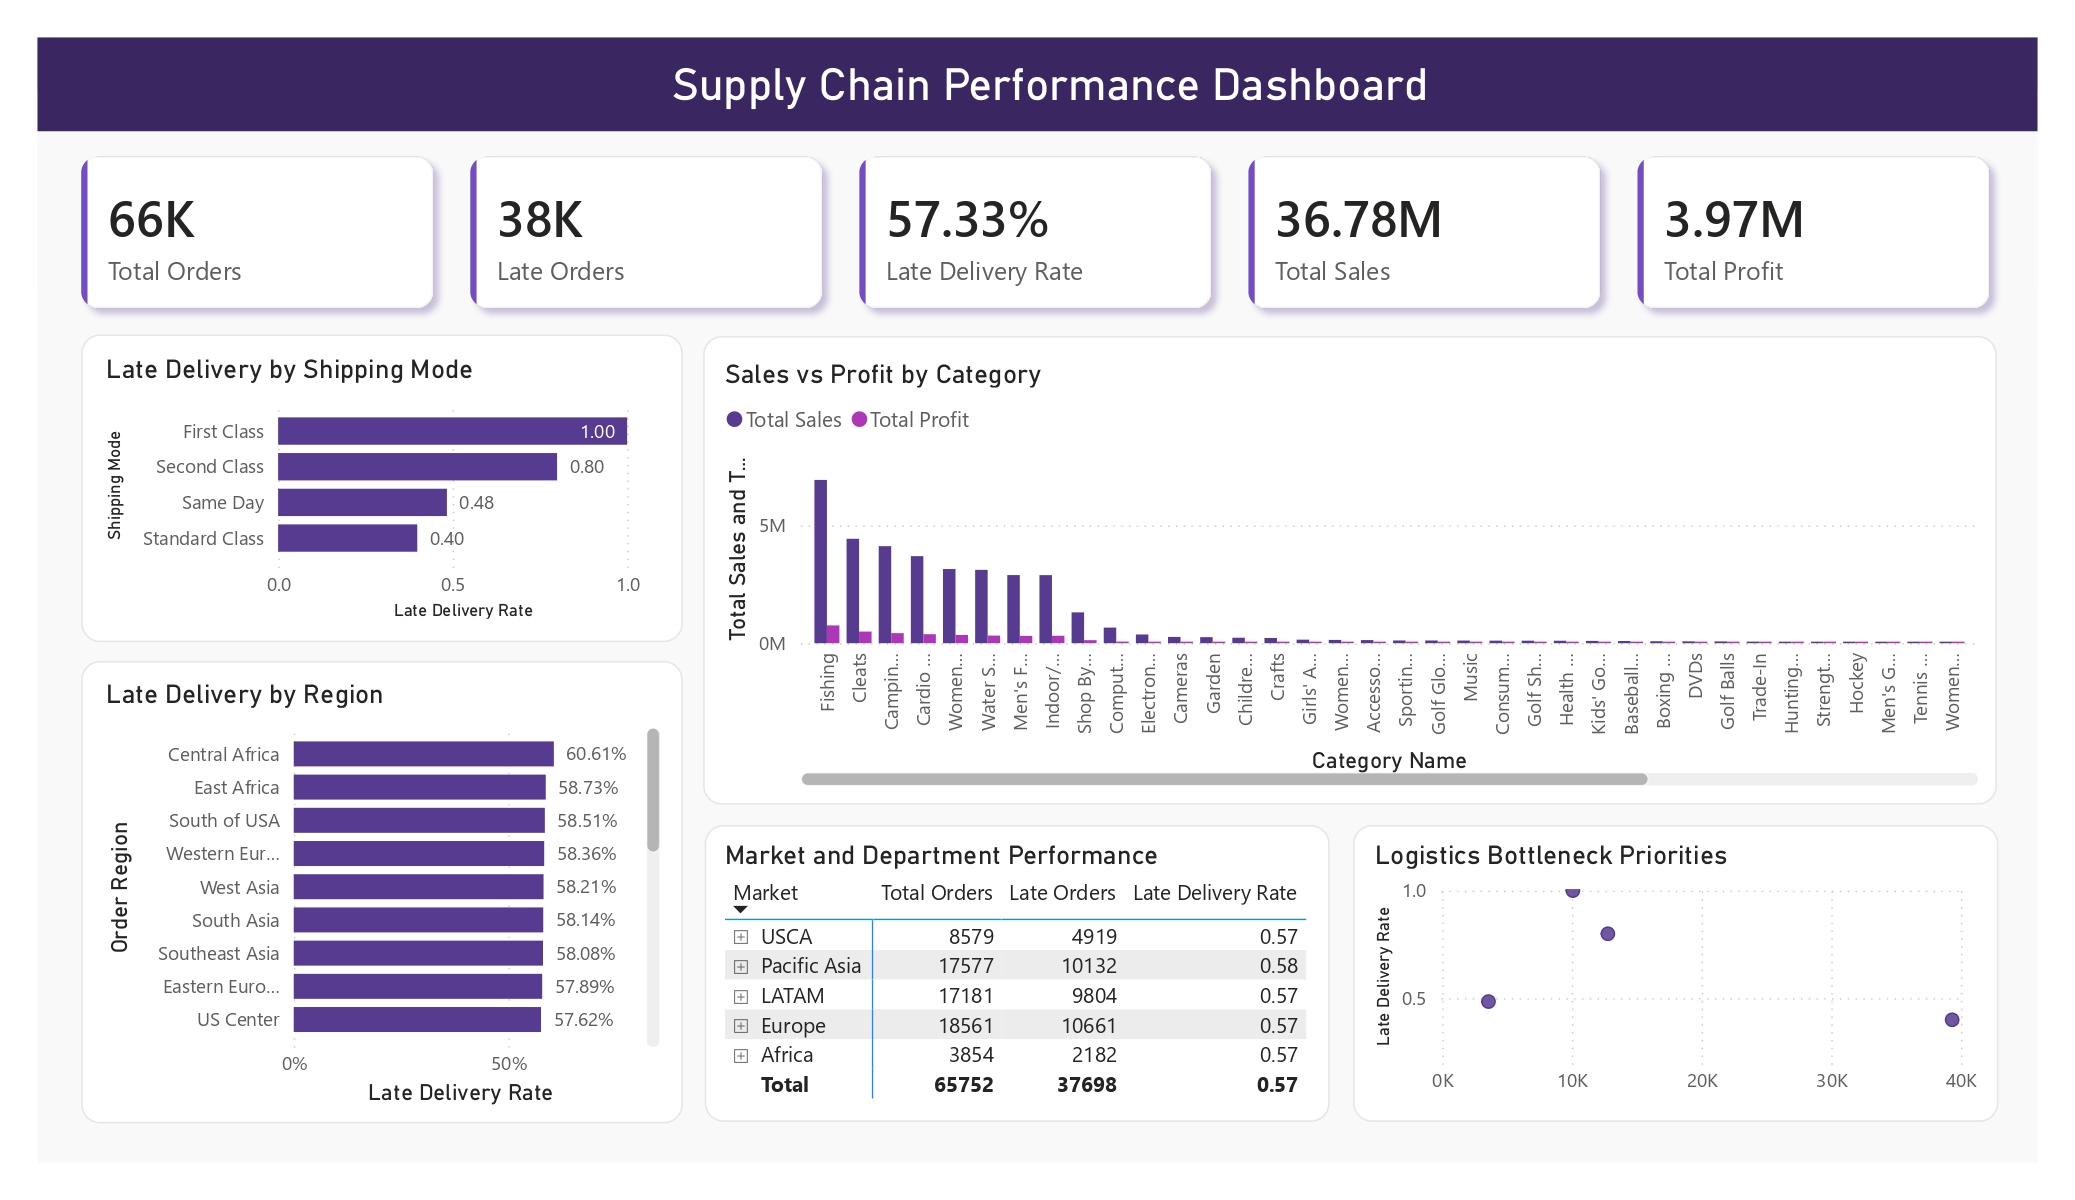

This screenshot's page, from the dashboard's own definition file:
{"tool":"powerbi","page":{"name":"Page 1","canvas":[1280,720],"ordinal":0},"visuals":[{"type":"shape","box":[842,504,413,190],"z":0},{"type":"shape","box":[427,504,400,190],"z":1000},{"type":"shape","box":[28,399,385,296],"z":2000},{"type":"shape","box":[426,191,828,300],"z":3000},{"type":"shape","box":[28,190,385,197],"z":4000},{"type":"cardVisual","fields":{"Data":["DataCoSupplyChainDataset_clean.Total Orders","DataCoSupplyChainDataset_clean.Late Orders","DataCoSupplyChainDataset_clean.Late Delivery Rate","DataCoSupplyChainDataset_clean.Total Sales","DataCoSupplyChainDataset_clean.Total Profit"]},"box":[0,59,1280,131],"z":5000},{"type":"shape","box":[0,0,1440,60],"z":6000},{"type":"textbox","box":[17,3,1247,53],"z":7000},{"type":"clusteredBarChart","title":"Late Delivery by Shipping Mode","fields":{"Category":["DataCoSupplyChainDataset_clean.Shipping Mode"],"Y":["DataCoSupplyChainDataset_clean.Late Delivery Rate"]},"box":[39,202,365,175],"z":8000},{"type":"clusteredBarChart","title":"Late Delivery by Region","fields":{"Category":["DataCoSupplyChainDataset_clean.Order Region"],"Y":["DataCoSupplyChainDataset_clean.Late Delivery Rate"]},"box":[39,410,364,278],"z":9000},{"type":"clusteredColumnChart","title":"Sales vs Profit by Category","fields":{"Category":["DataCoSupplyChainDataset_clean.Category Name"],"Y":["DataCoSupplyChainDataset_clean.Total Sales","DataCoSupplyChainDataset_clean.Total Profit"]},"box":[435,205,812,279],"z":10000},{"type":"pivotTable","title":"Market and Department Performance","fields":{"Rows":["DataCoSupplyChainDataset_clean.Market","DataCoSupplyChainDataset_clean.Department Name"],"Values":["DataCoSupplyChainDataset_clean.Total Orders","DataCoSupplyChainDataset_clean.Late Orders","DataCoSupplyChainDataset_clean.Late Delivery Rate"]},"box":[435,513,385,173],"z":11000},{"type":"scatterChart","title":"Logistics Bottleneck Priorities","fields":{"X":["DataCoSupplyChainDataset_clean.Total Orders"],"Y":["DataCoSupplyChainDataset_clean.Late Delivery Rate"],"Category":["DataCoSupplyChainDataset_clean.Shipping Mode"]},"box":[851,513,395,173],"z":12000}]}

Visuals, with their boxes on the page's 1280x720 design canvas (x1, y1, x2, y2). These are canvas units, not pixel positions in the 2075x1200 screenshot, which may show the page scaled, cropped or inside an application window:
shape: pyautogui.locateOnScreen(842, 504, 1255, 694)
shape: pyautogui.locateOnScreen(427, 504, 827, 694)
shape: pyautogui.locateOnScreen(28, 399, 413, 695)
shape: pyautogui.locateOnScreen(426, 191, 1254, 491)
shape: pyautogui.locateOnScreen(28, 190, 413, 387)
cardVisual - DataCoSupplyChainDataset_clean.Total Orders x DataCoSupplyChainDataset_clean.Late Orders: pyautogui.locateOnScreen(0, 59, 1280, 190)
shape: pyautogui.locateOnScreen(0, 0, 1440, 60)
textbox: pyautogui.locateOnScreen(17, 3, 1264, 56)
"Late Delivery by Shipping Mode" clusteredBarChart: pyautogui.locateOnScreen(39, 202, 404, 377)
"Late Delivery by Region" clusteredBarChart: pyautogui.locateOnScreen(39, 410, 403, 688)
"Sales vs Profit by Category" clusteredColumnChart: pyautogui.locateOnScreen(435, 205, 1247, 484)
"Market and Department Performance" pivotTable: pyautogui.locateOnScreen(435, 513, 820, 686)
"Logistics Bottleneck Priorities" scatterChart: pyautogui.locateOnScreen(851, 513, 1246, 686)
